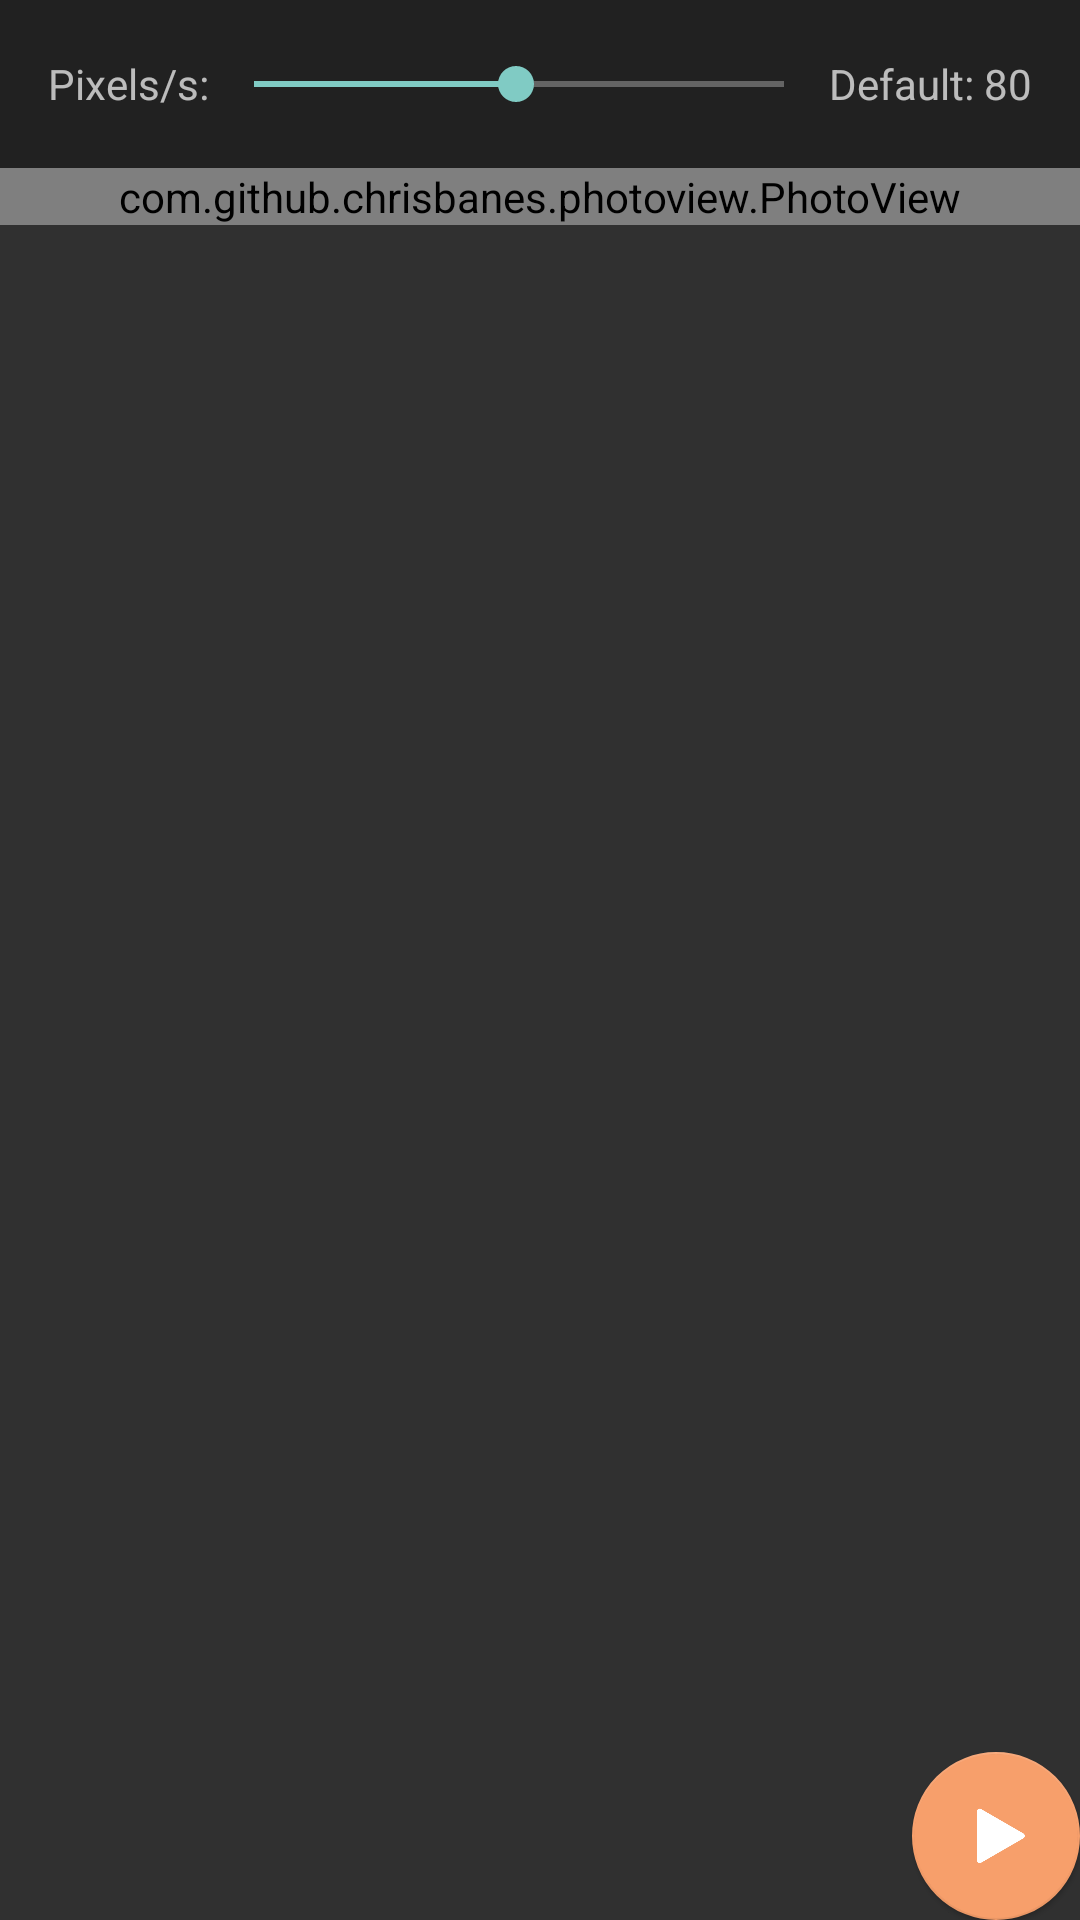

Icons on this 1080px x 1920px Android screen, each with the point to tap as point (x, y):
triangle: point (996, 1836)
